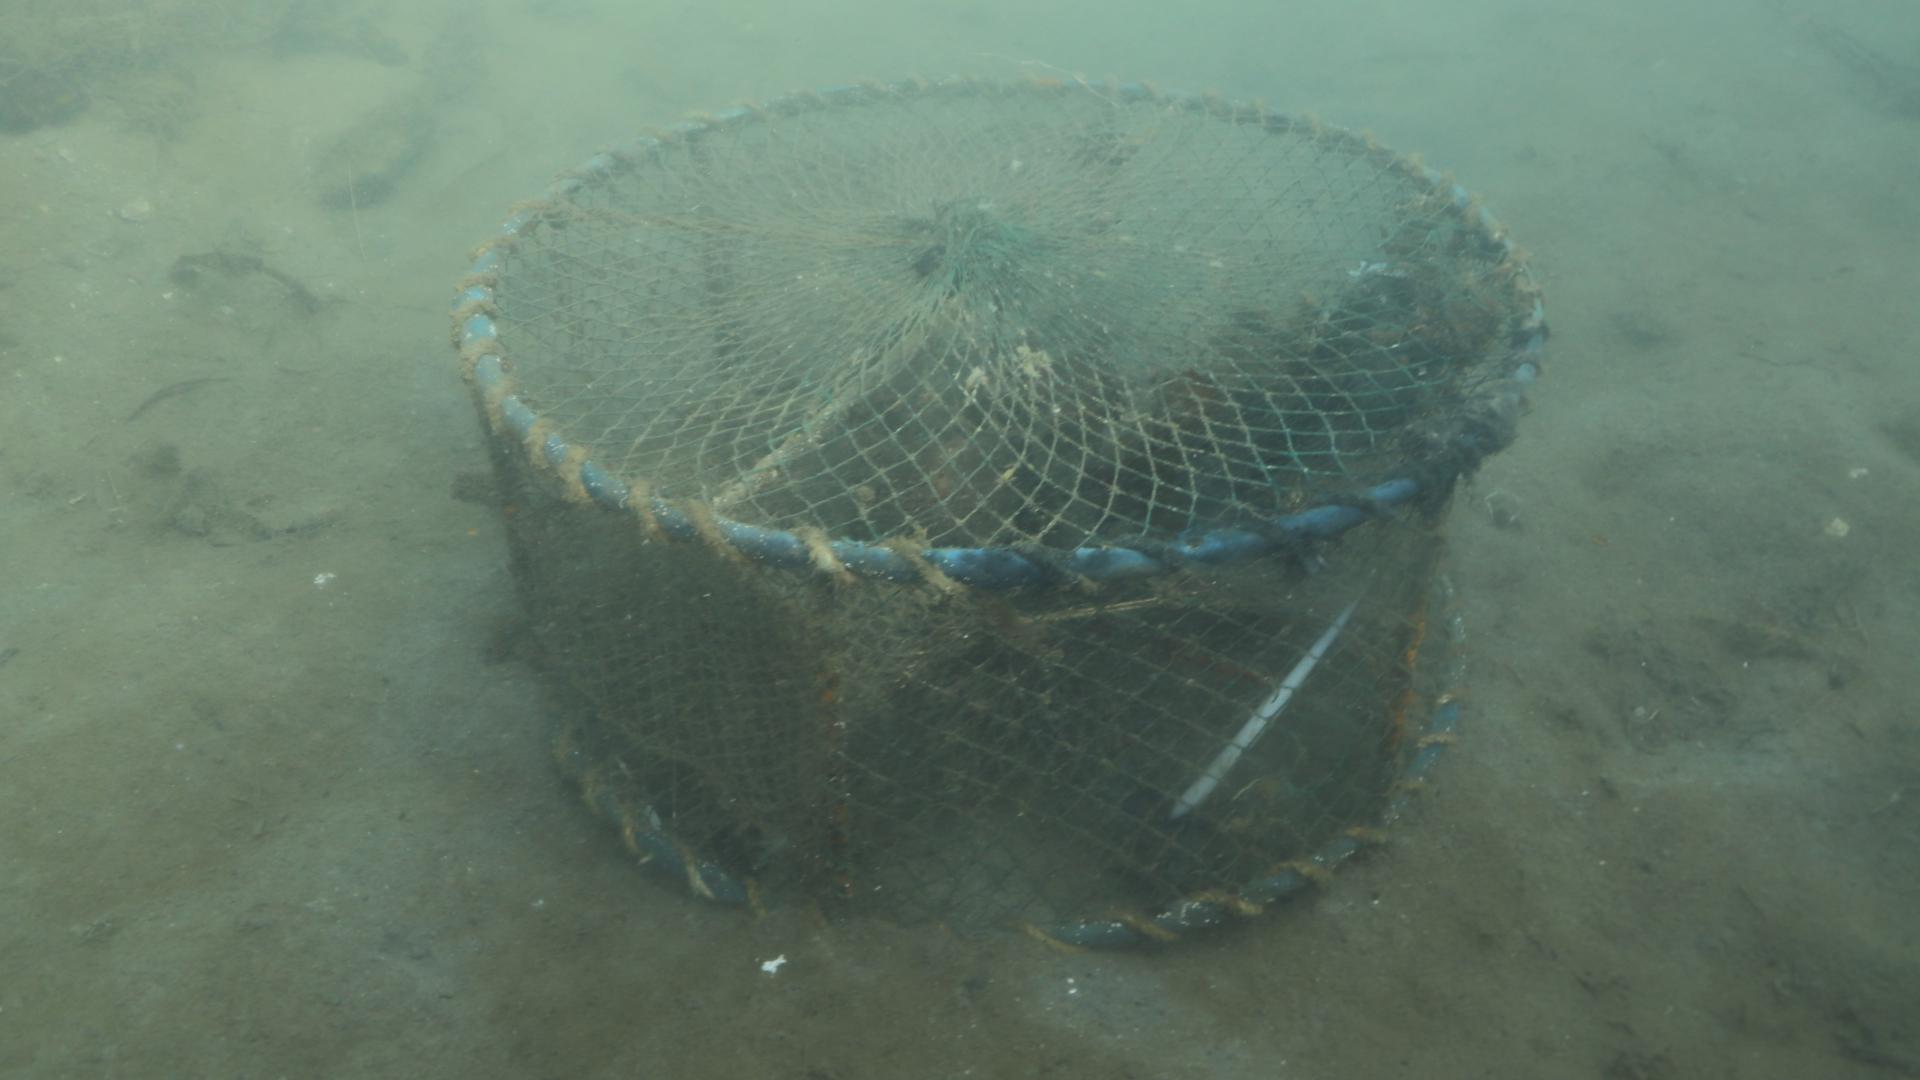circular fish trap: (446, 67, 1551, 953)
